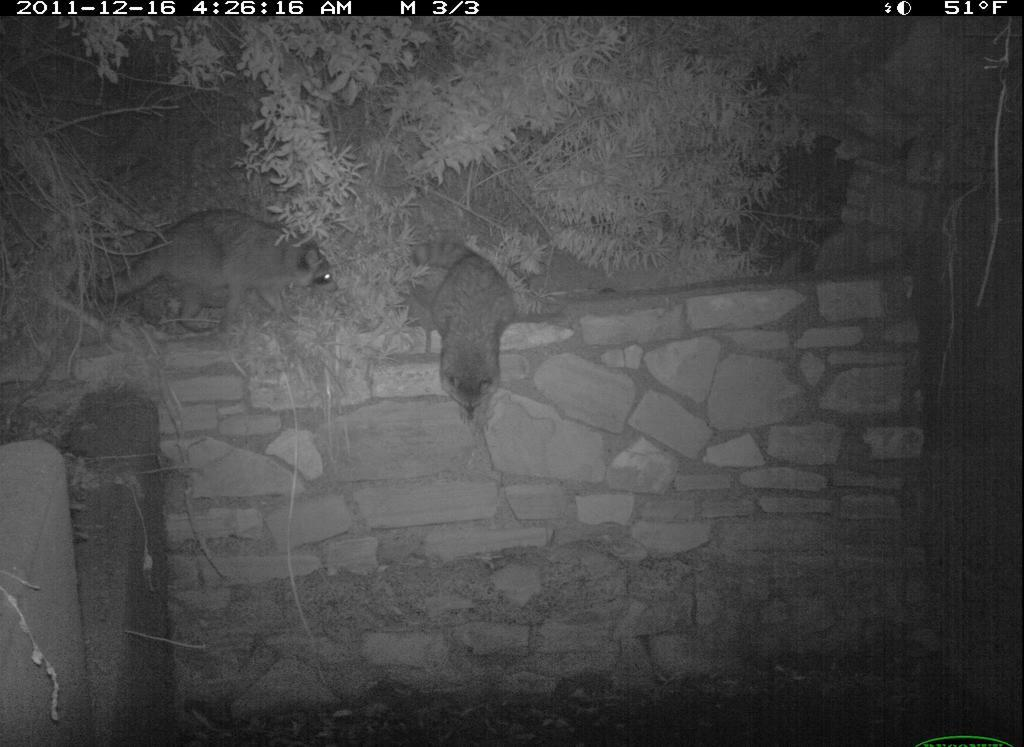raccoon: (91, 201, 345, 350), (402, 233, 523, 429)
